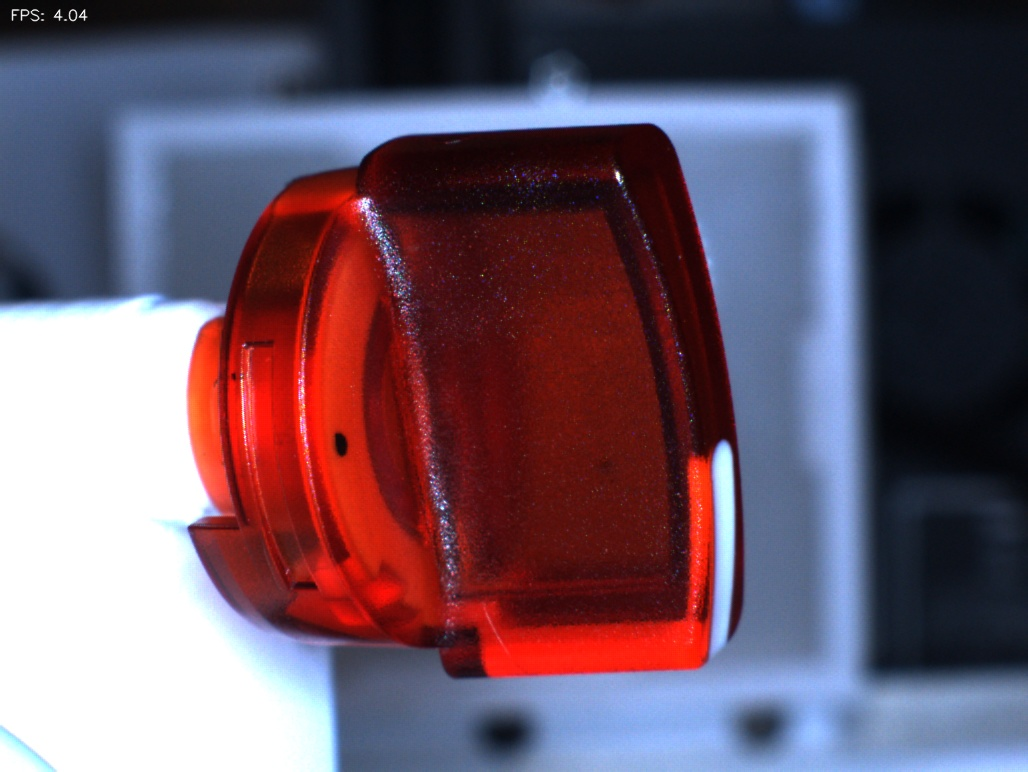PointNoir: (309, 411, 379, 481)
